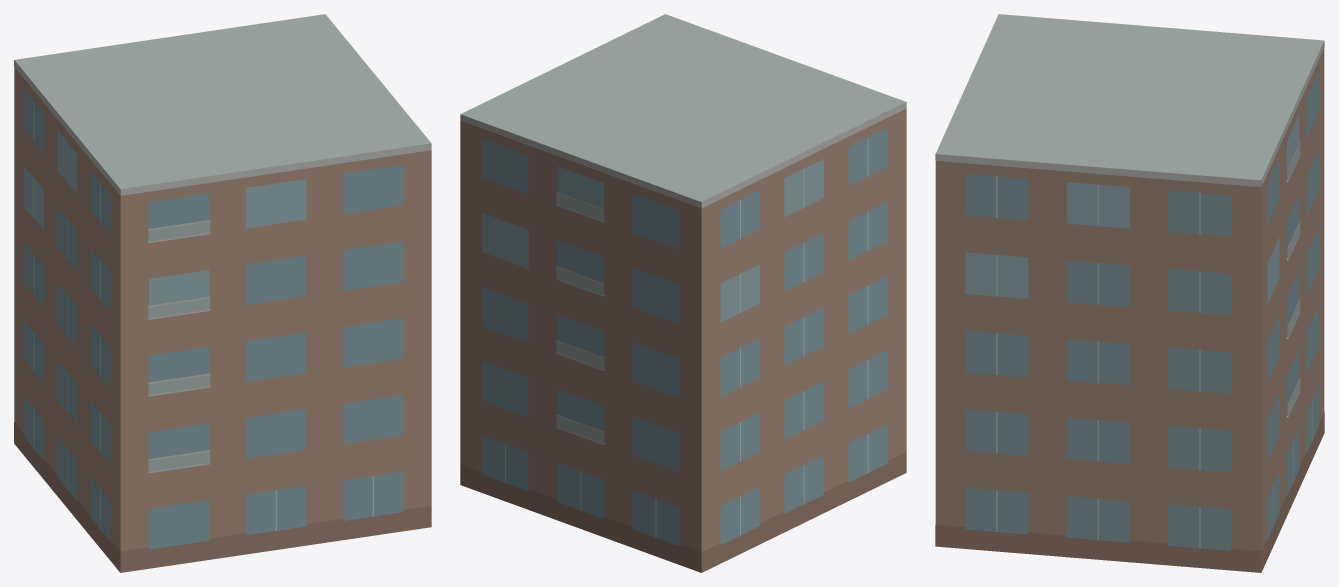
Rendered from survey-upis-32521372.glb.
3 renders of one model, left to right at view 1: azimuth 30°, elevation 25°; view 2: azimuth 150°, elevation 25°; view 3: azimuth 270°, elevation 25°, orthographic. The views are drawn at different scales.
Parts seen in each view (by area): view 1: survey-upis-32521372.tmp; view 2: survey-upis-32521372.tmp; view 3: survey-upis-32521372.tmp.
Boxes of the visible parts, x1,y1,x2,y2 form: survey-upis-32521372.tmp: (14, 14, 431, 572); survey-upis-32521372.tmp: (460, 14, 906, 572); survey-upis-32521372.tmp: (935, 14, 1324, 572).
Bounding box in the file's own units: 12.83 × 14.1 × 12.68.
